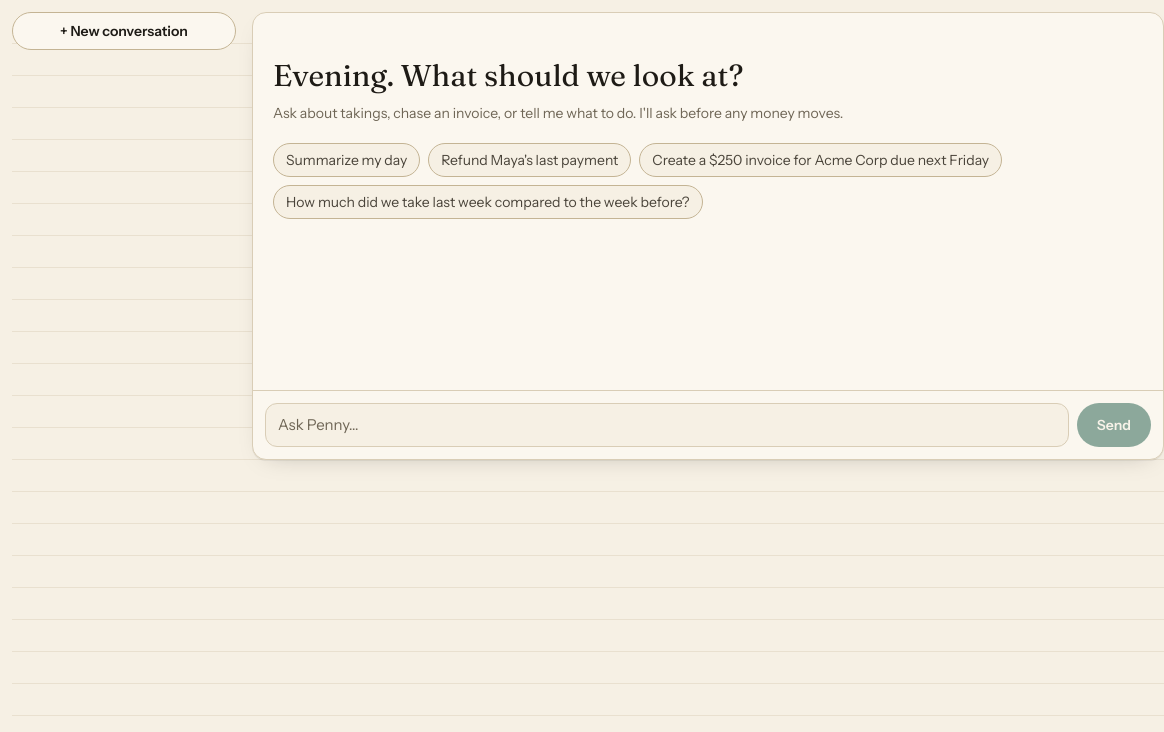
Test: Chat › a turn started before the initial load finishes is not wiped by that load
Step 1. Click the button "Refund Maya's last payment" → (530, 160), box [428,142,631,176]
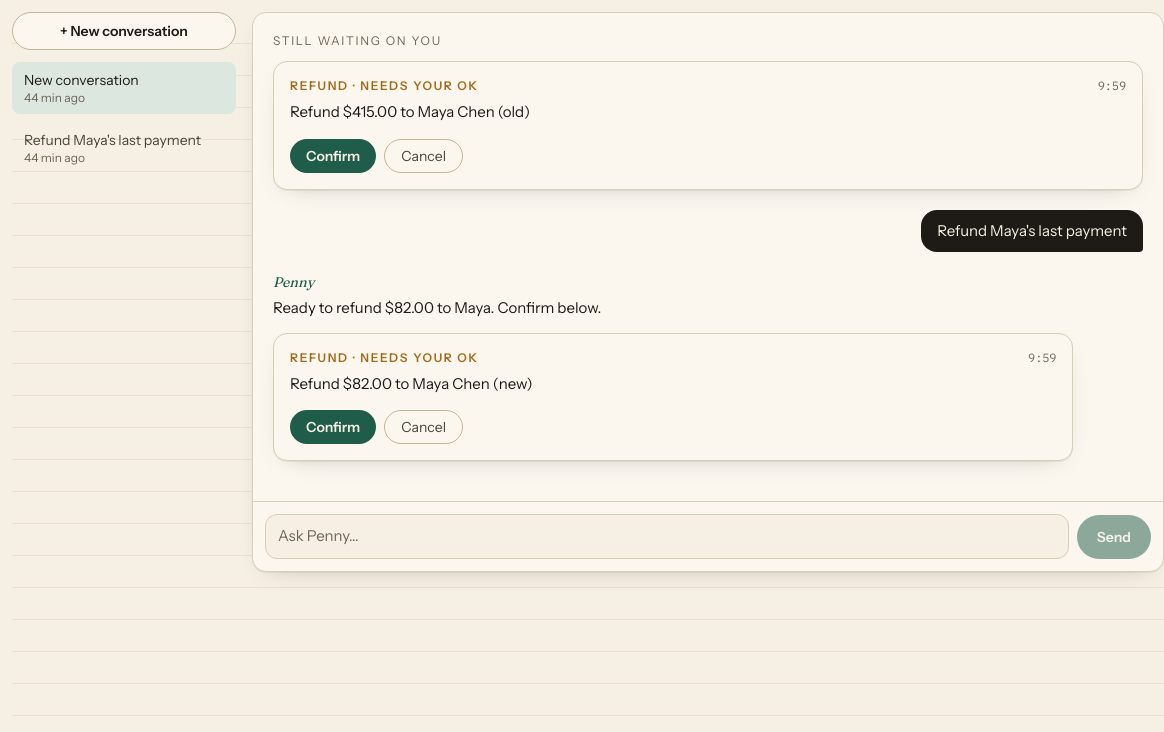
Result: the text "Ready to refund $82.00 to Maya. Confirm below." is shown at [273,298,601,317]
Result: the button "Confirm" below "Refund $82.00 to Maya Chen (new)" is shown at [290,410,376,444]
Result: the text "Refund $82.00 to Maya Chen (new)" is shown once at [290,374,532,392]
